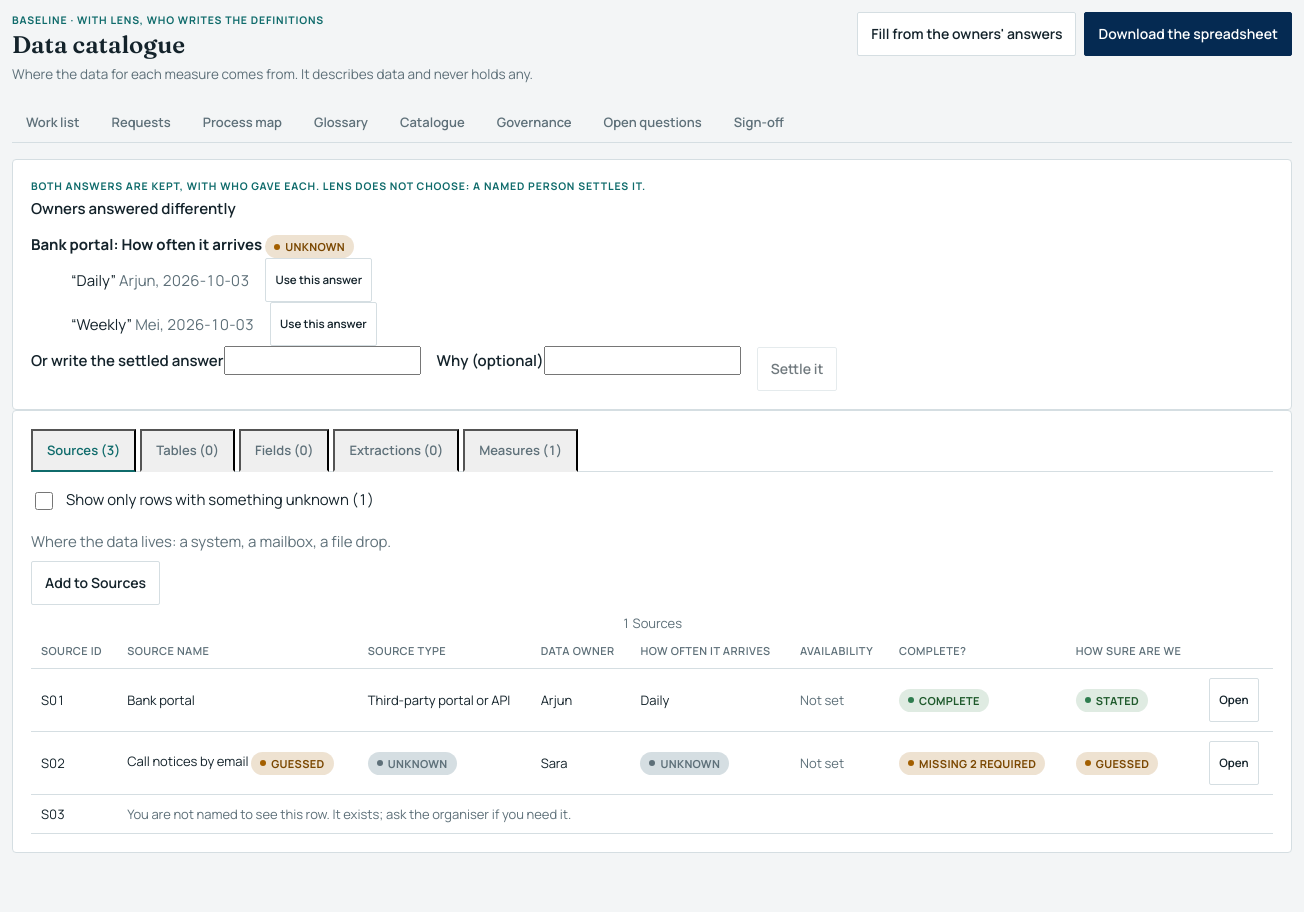
Test: conflicts › says plainly when a person is refused
The width and height of the screenshot is (1304, 912).
Click the button "Use this answer" next to "Arjun, 2026-10-03": (319, 280) left=266, top=258, right=372, bottom=302
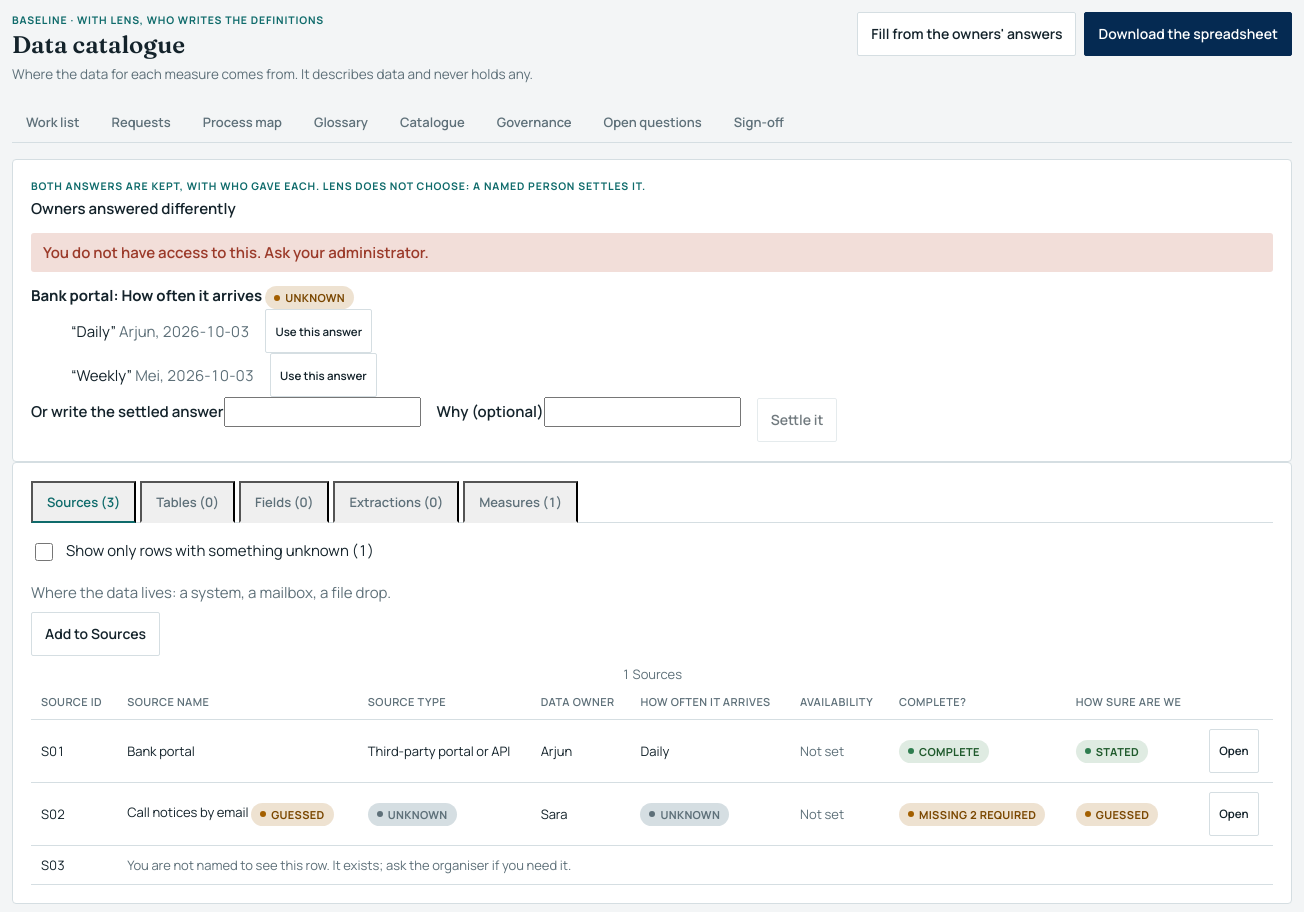
Now the message reads "You do not have access to this. Ask your administrator.", box left=43, top=242, right=429, bottom=263
